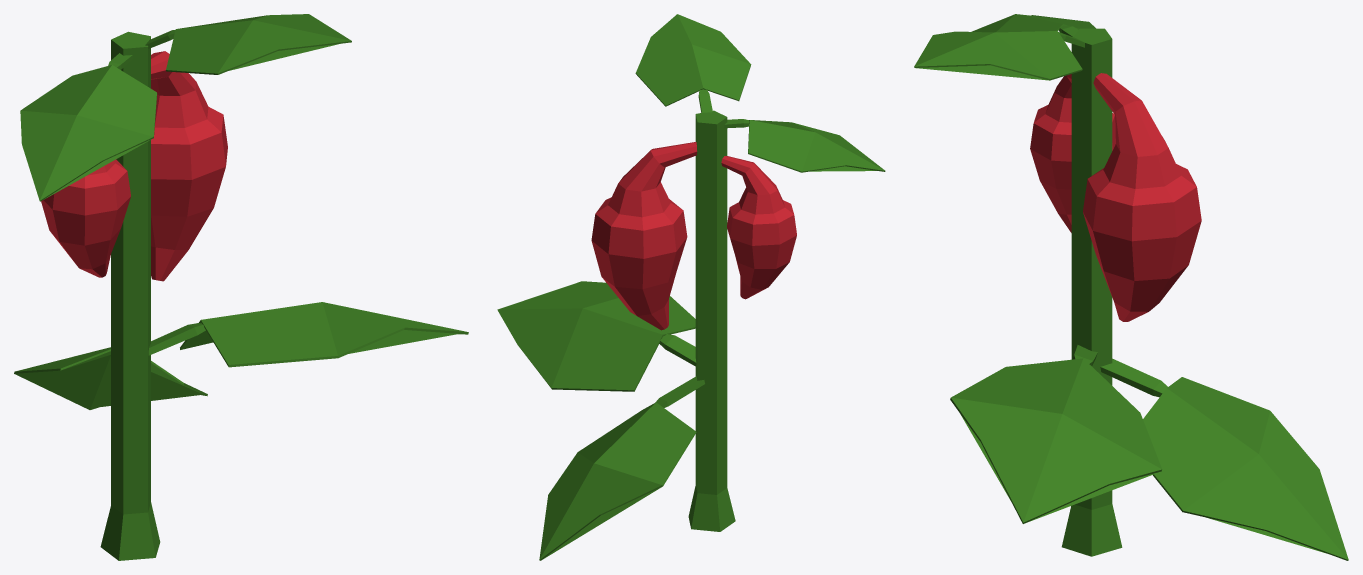
The model's file is ChiliPlant_Stage02.fbx.
3 renders of one model, left to right at view 1: azimuth 30°, elevation 25°; view 2: azimuth 150°, elevation 25°; view 3: azimuth 270°, elevation 25°, orthographic. The views are drawn at different scales.
Visible parts, largest first — view 1: ChiliPlant_Stage02; view 2: ChiliPlant_Stage02; view 3: ChiliPlant_Stage02.
Part boxes in pixels (x1,y1,x2,y2): ChiliPlant_Stage02: [14, 14, 468, 560]; ChiliPlant_Stage02: [497, 14, 885, 560]; ChiliPlant_Stage02: [914, 14, 1348, 560].
Bounding box in the file's own units: 174 × 199 × 143.
